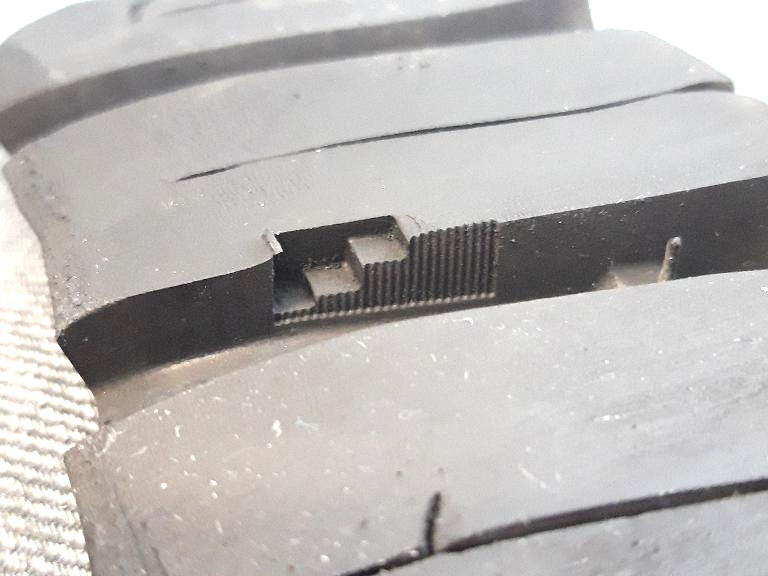temoin:75: (257, 199, 461, 337)
